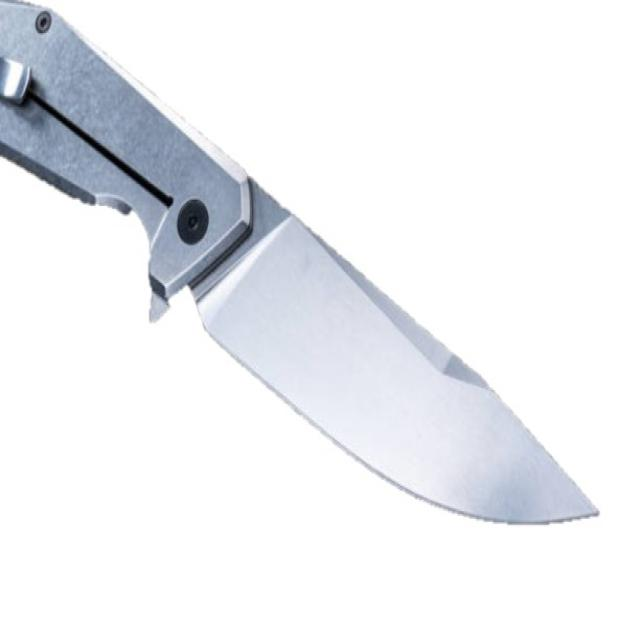knife: (1, 1, 608, 545)
